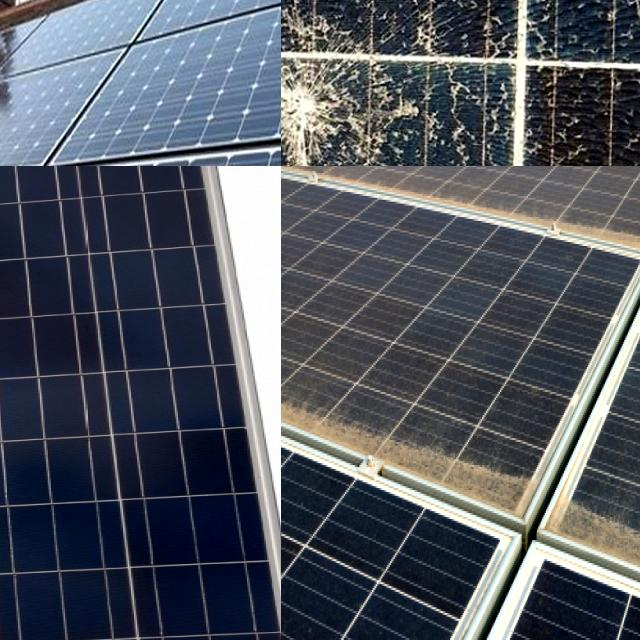crack: (0, 166, 281, 640), (73, 0, 281, 166), (0, 30, 138, 166), (0, 0, 181, 92), (0, 0, 77, 103)
dust: (473, 166, 640, 274), (353, 433, 560, 516), (566, 467, 640, 640), (281, 166, 463, 229), (281, 374, 369, 447)
hotspot: (281, 14, 435, 166)
